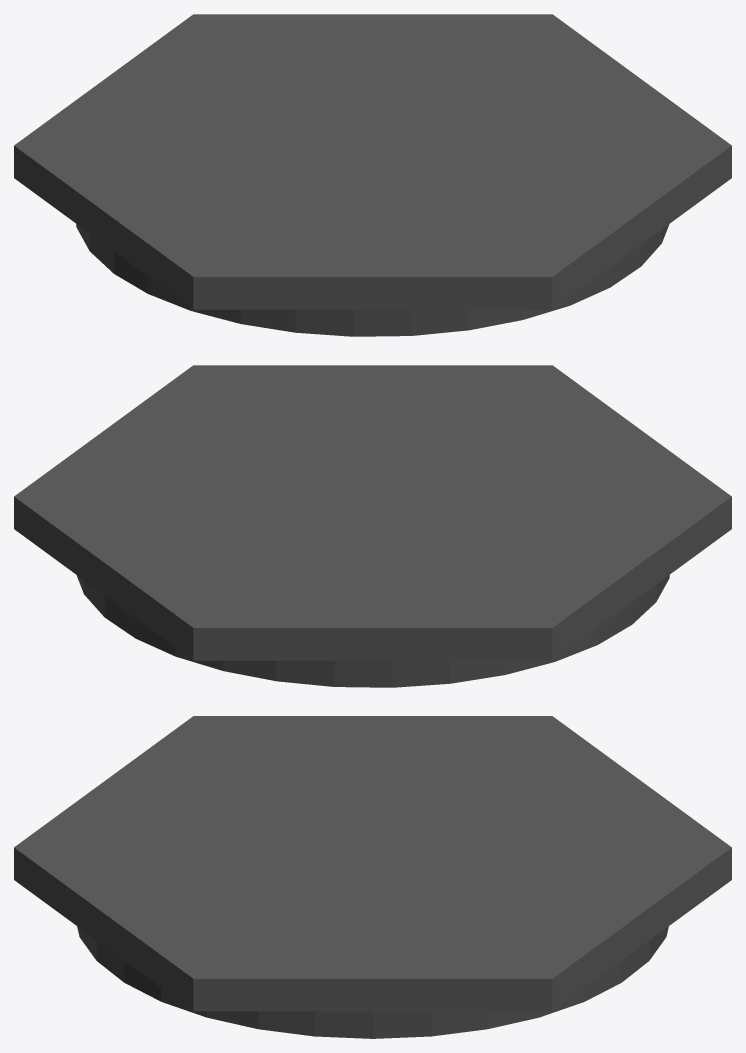
File: torreAnillos.obj
The picture shows the model from 3 angles, top to bottom: view 1: azimuth 30°, elevation 25°; view 2: azimuth 150°, elevation 25°; view 3: azimuth 270°, elevation 25°; orthographic projection.
Parts seen in each view (by area): view 1: Cylinder.012; view 2: Cylinder.012; view 3: Cylinder.012.
Boxes of the visible parts, x1=… form: Cylinder.012: x1=14, y1=14, x2=731, y2=336; Cylinder.012: x1=14, y1=365, x2=731, y2=687; Cylinder.012: x1=14, y1=716, x2=731, y2=1038.
Bounding box in the file's own units: 17.32 × 2 × 20.
2 materials, 2 textured.
